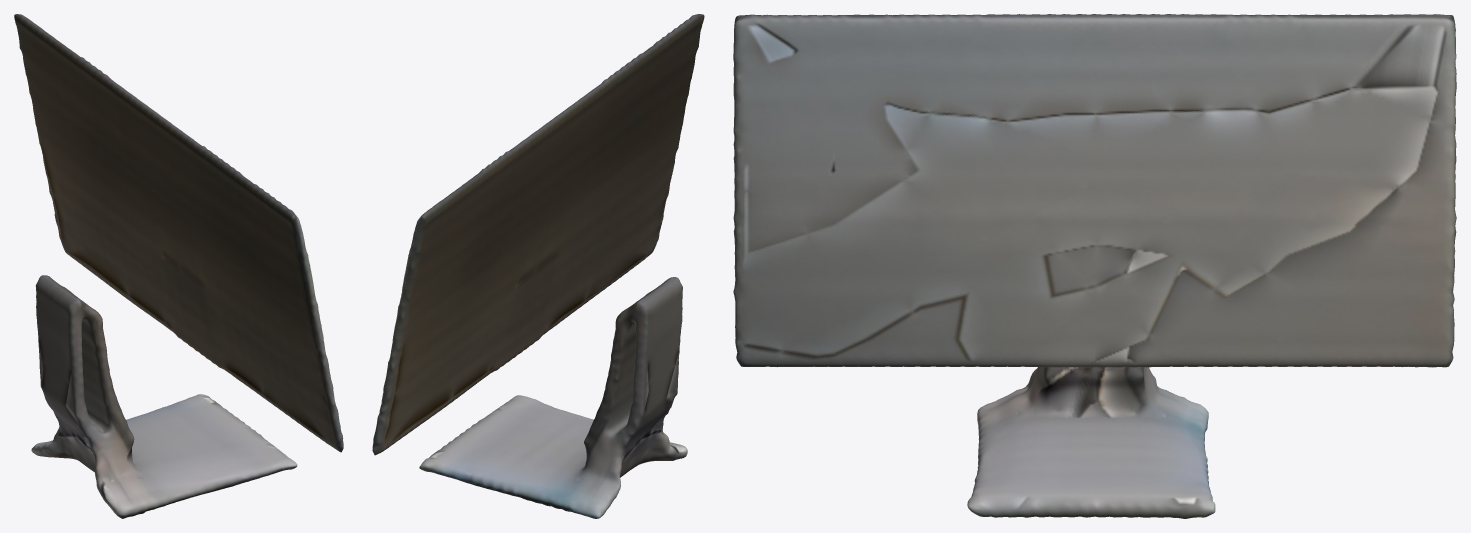
File: pc_draft.glb
3 views of the same model, side by side, from view 1: azimuth 30°, elevation 25°; view 2: azimuth 150°, elevation 25°; view 3: azimuth 270°, elevation 25° (orthographic). The views are drawn at different scales.
Parts seen in each view (by area): view 1: geometry_0; view 2: geometry_0; view 3: geometry_0.
Boxes of the visible parts, left/top/right/bottom form: geometry_0: left=14, top=14, right=343, bottom=518; geometry_0: left=372, top=14, right=704, bottom=518; geometry_0: left=733, top=14, right=1456, bottom=518.
Size of the model in its own units: 0.3734 by 0.6357 by 0.9121.
Materials: 1 (1 with a texture image).
